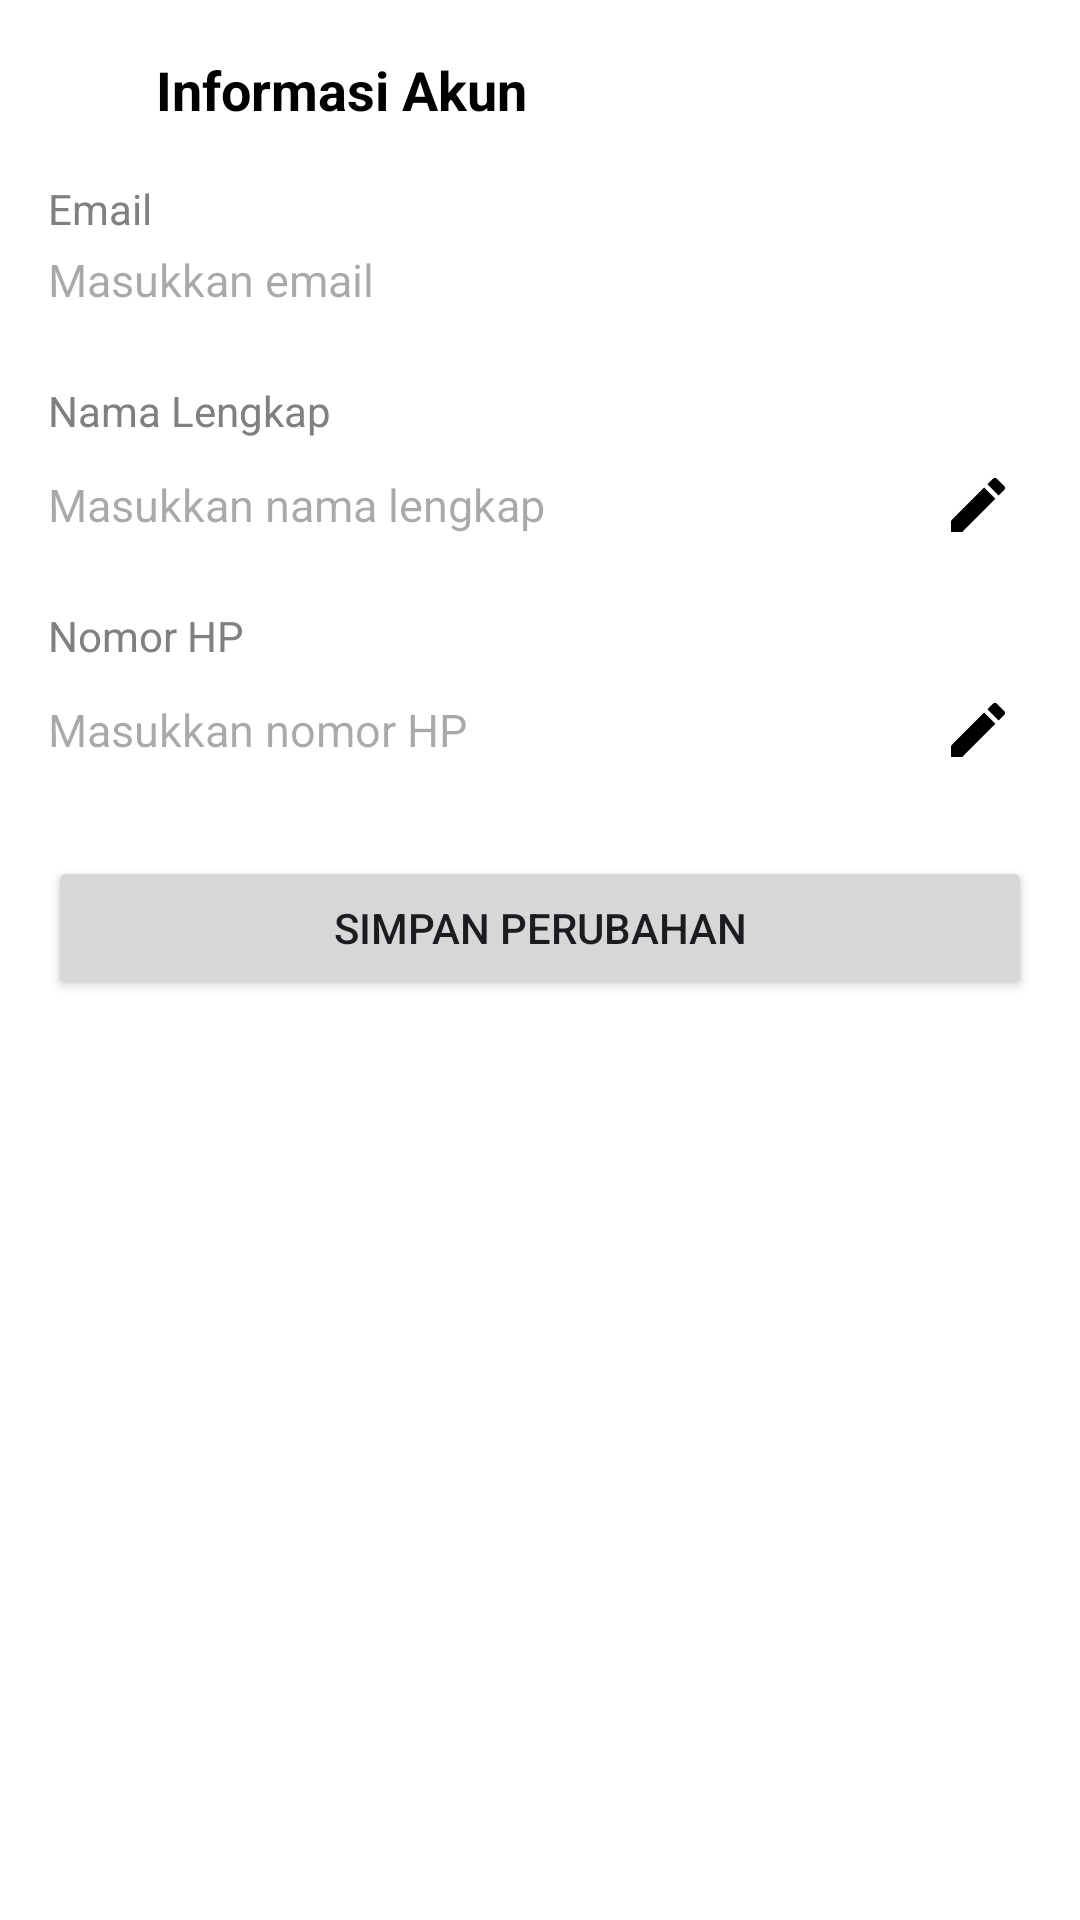

Icon bounding boxes for this 1080*1920 phone screenshot, format {"left": x1, "top": y1, "right": x2, "bottom": y2}:
Edit nama: {"left": 951, "top": 478, "right": 1005, "bottom": 532}
Edit nomor HP: {"left": 951, "top": 703, "right": 1005, "bottom": 757}
